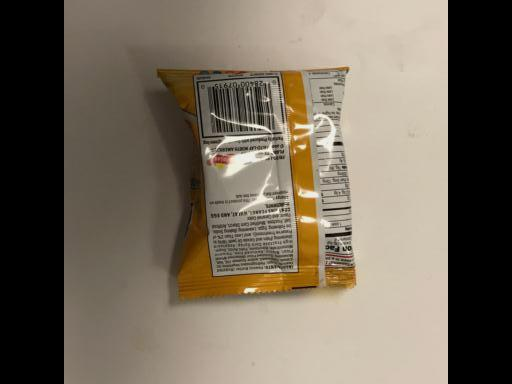trash: (158, 67, 356, 302)
